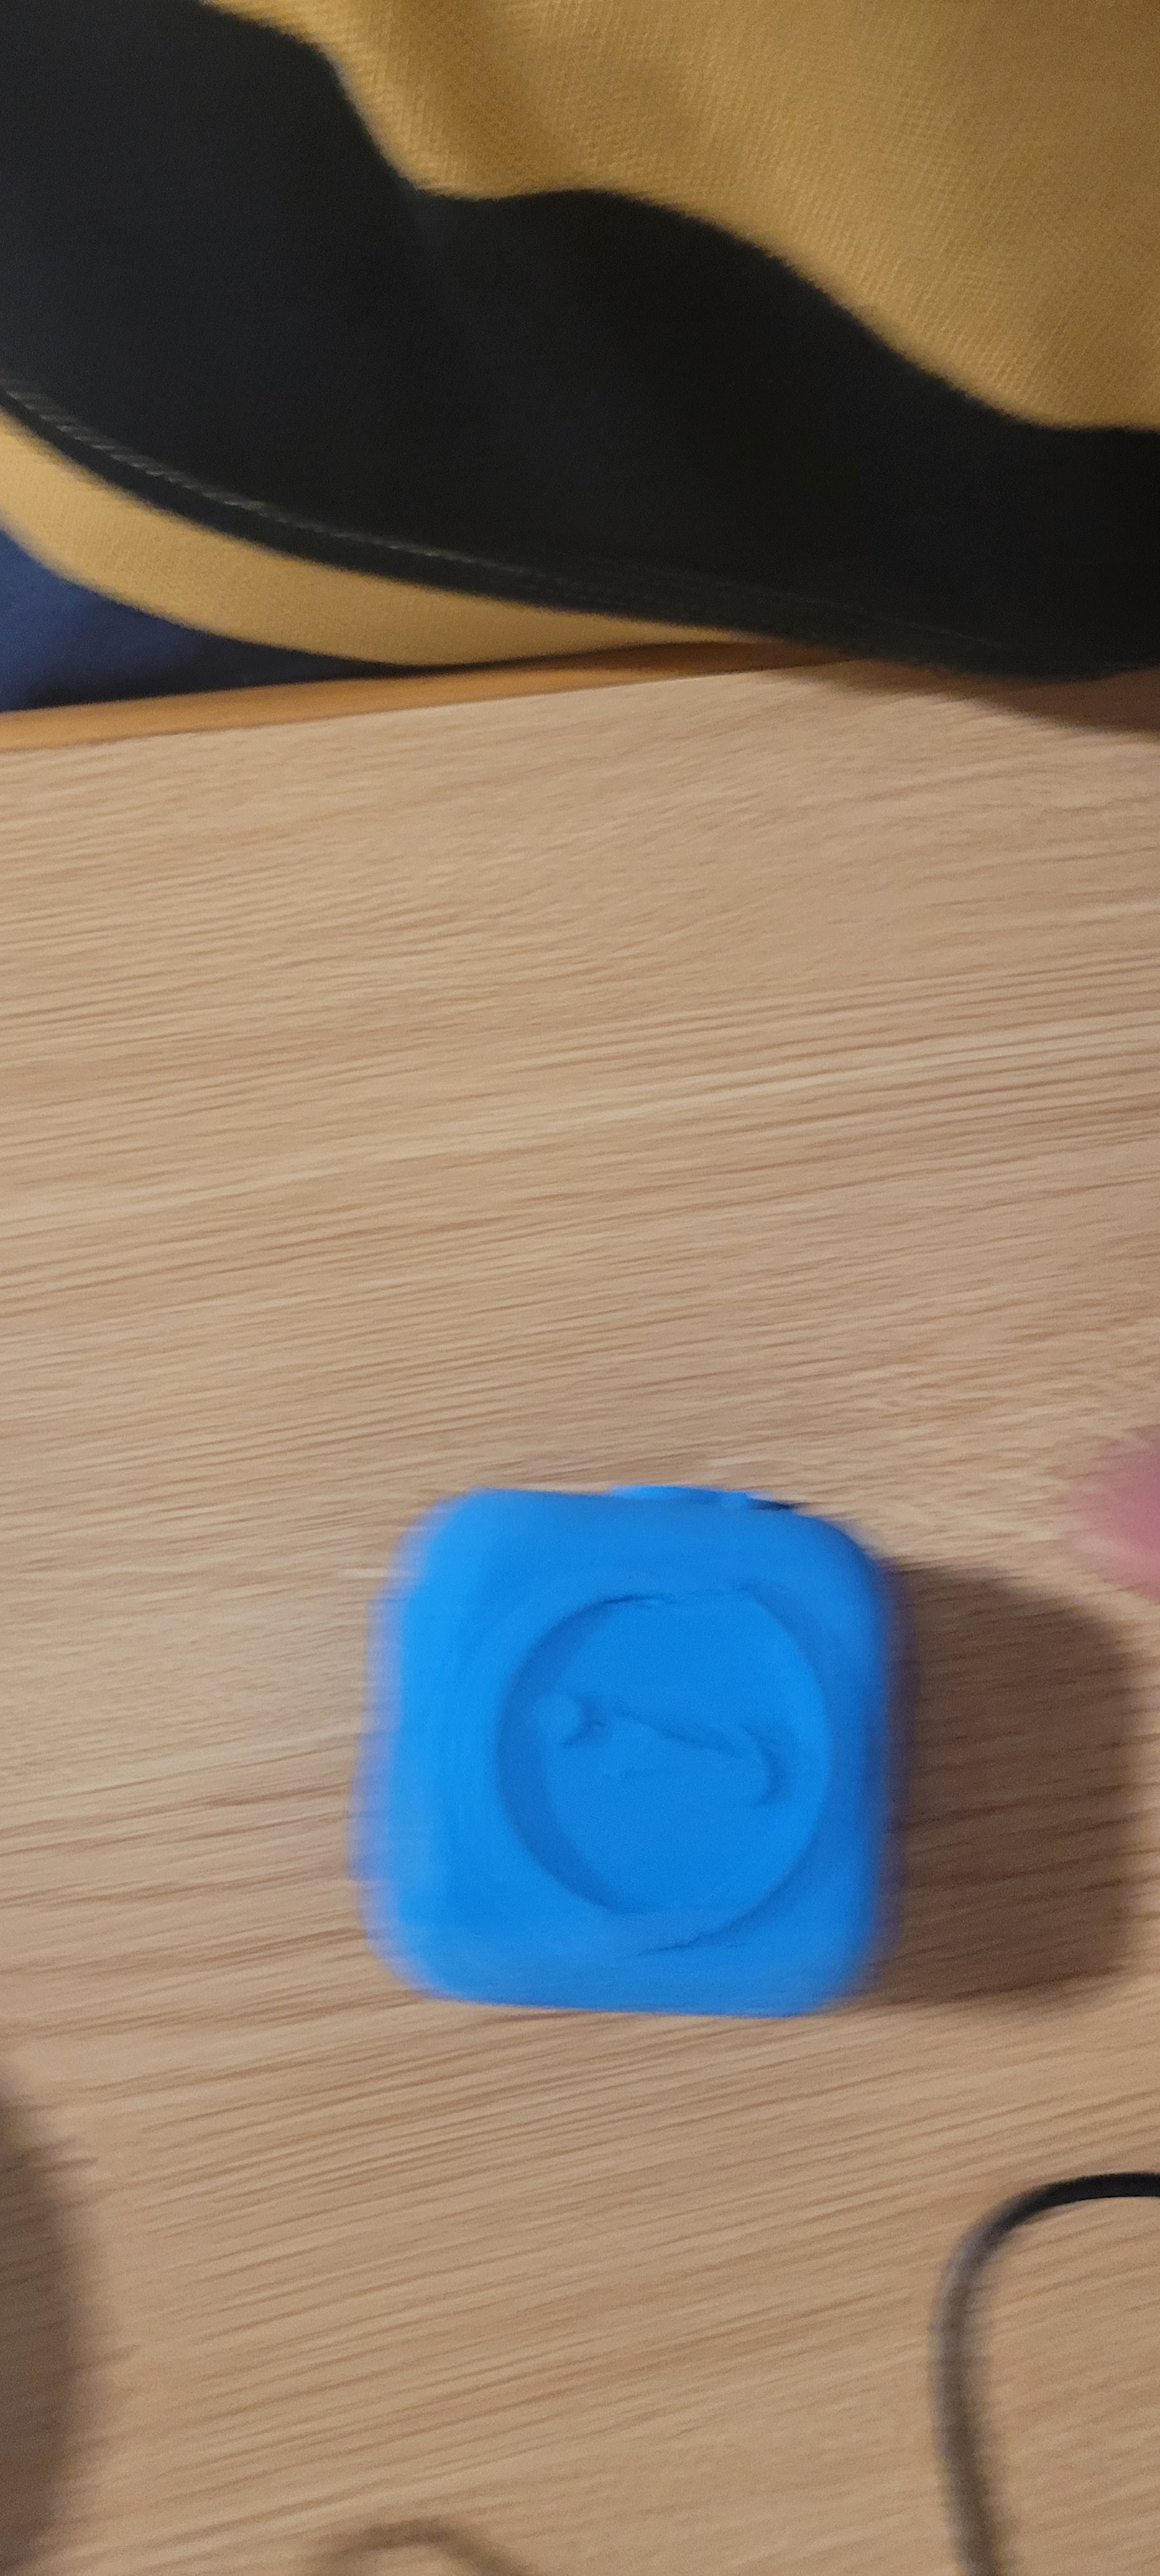Info: (490, 1533, 841, 1953)
